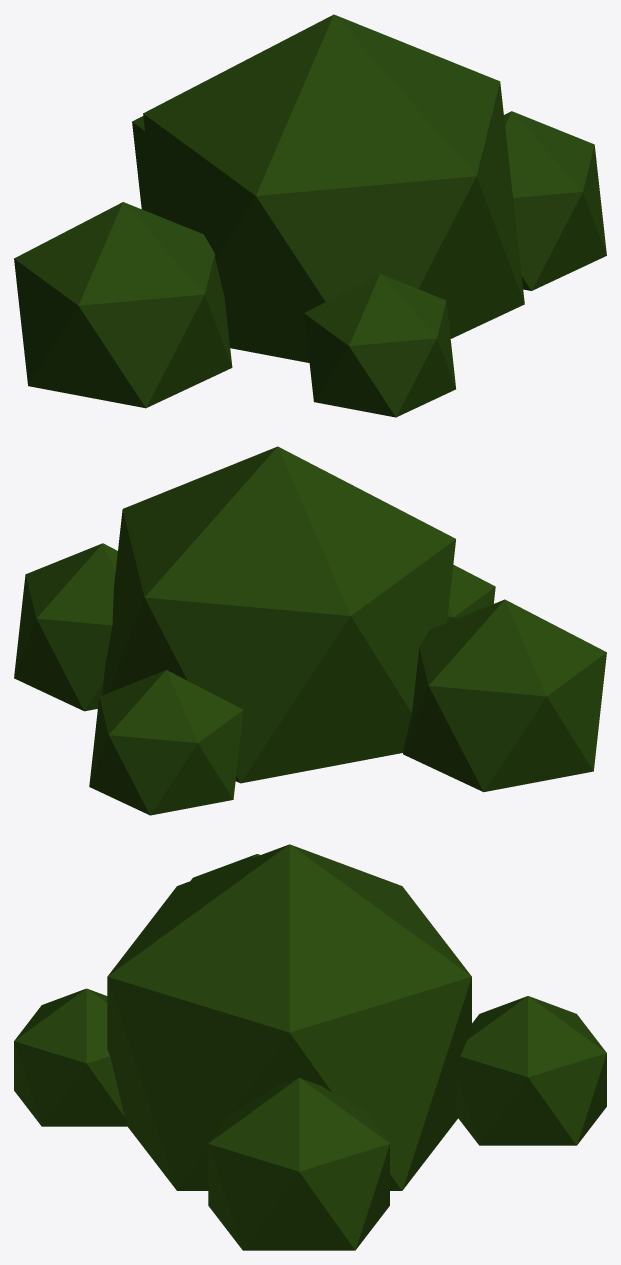
Rendered from Bush2.fbx.
3 renders of one model, top to bottom at view 1: azimuth 30°, elevation 25°; view 2: azimuth 150°, elevation 25°; view 3: azimuth 270°, elevation 25°, orthographic. The views are drawn at different scales.
Visible parts, largest first — view 1: Bush; view 2: Bush; view 3: Bush.
Part boxes in pixels (x1,y1,x2,y2): Bush: (14, 14, 606, 417); Bush: (14, 446, 606, 815); Bush: (14, 844, 606, 1250).
Bounding box in the file's own units: 186 × 89.02 × 162.
